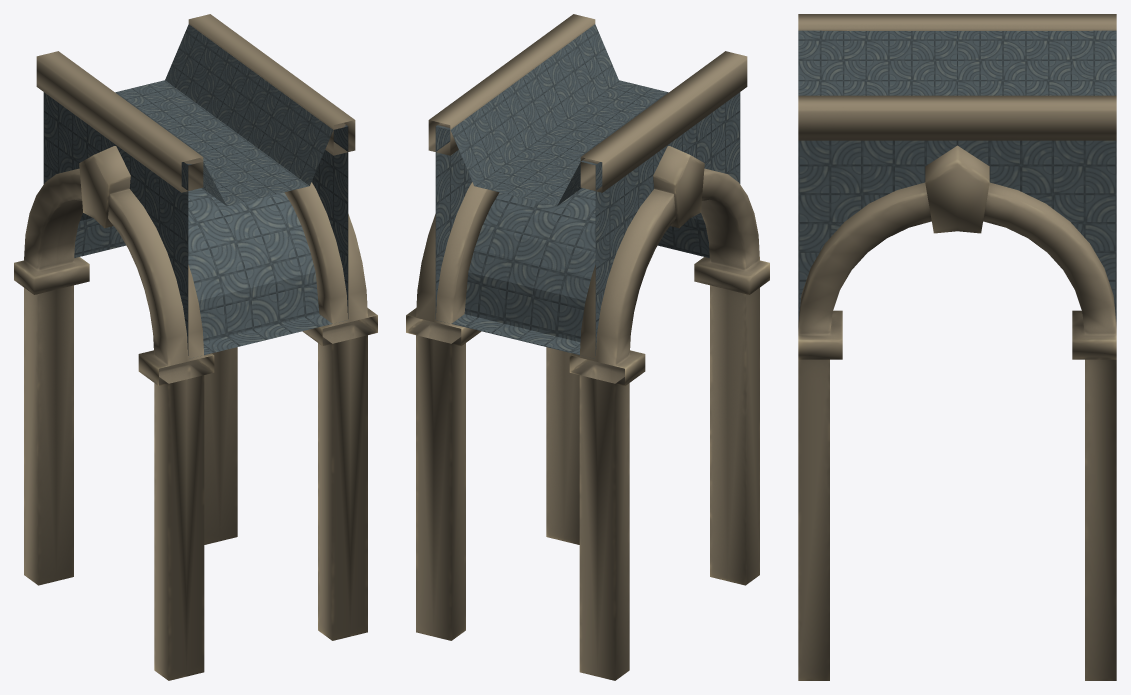
Rendered from ProjectRG_Environment_RuinsAqueduct_Water.fbx.
The picture shows the model from 3 angles, left to right: view 1: azimuth 30°, elevation 25°; view 2: azimuth 150°, elevation 25°; view 3: azimuth 270°, elevation 25°; orthographic projection. The views are drawn at different scales.
Visible parts, largest first — view 1: ProjectRG_Environment_RuinsAqueduct_Water; view 2: ProjectRG_Environment_RuinsAqueduct_Water; view 3: ProjectRG_Environment_RuinsAqueduct_Water.
Boxes of the visible parts, <box> form: ProjectRG_Environment_RuinsAqueduct_Water: <box>14,14,377,680</box>; ProjectRG_Environment_RuinsAqueduct_Water: <box>406,14,769,680</box>; ProjectRG_Environment_RuinsAqueduct_Water: <box>798,14,1116,680</box>.
Size of the model in its own units: 1747 by 3929 by 2000.
